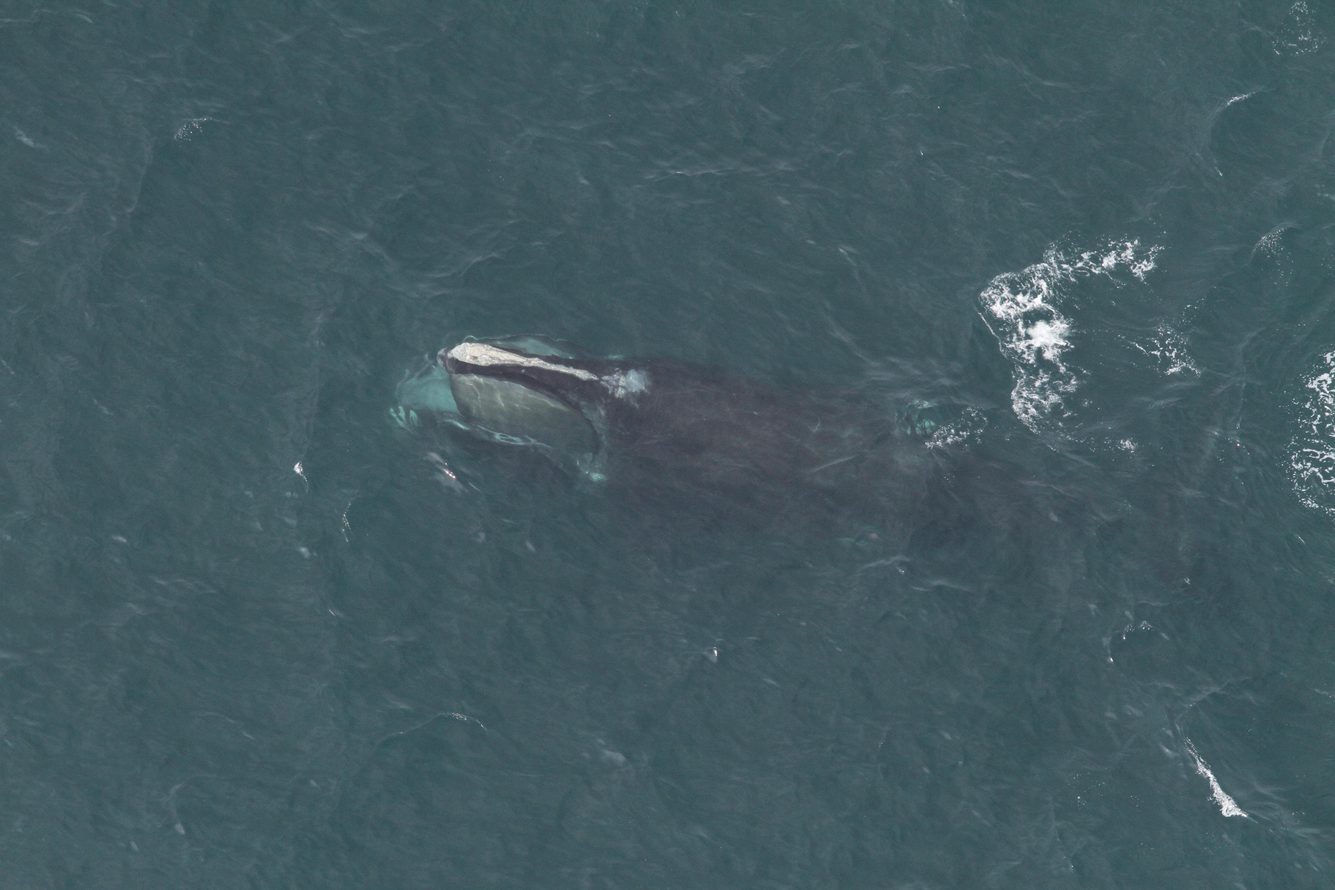whale: (369, 304, 1260, 658)
